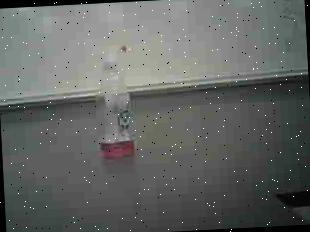hazard: (91, 44, 144, 163)
